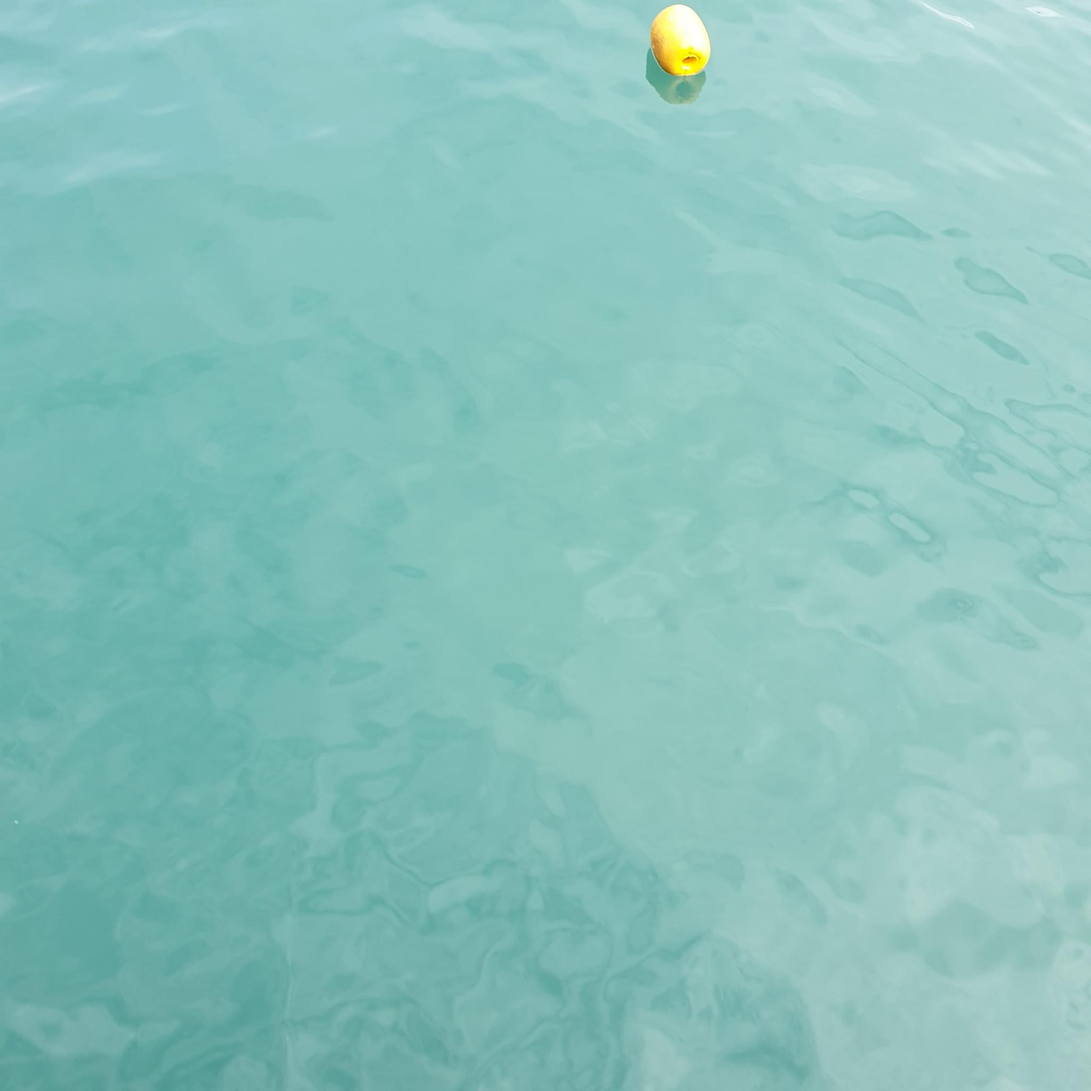sampah_terapung: (651, 5, 712, 77)
